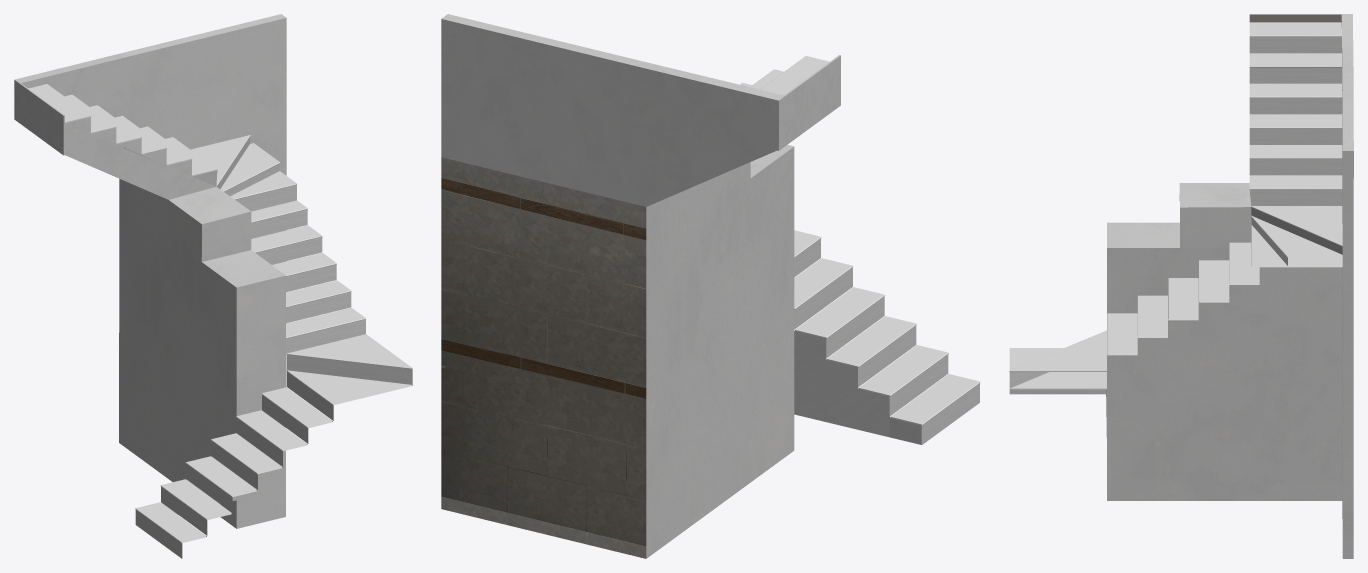
File: StairWall2.fbx
3 views of the same model, side by side, from view 1: azimuth 30°, elevation 25°; view 2: azimuth 150°, elevation 25°; view 3: azimuth 270°, elevation 25° (orthographic). The views are drawn at different scales.
Parts seen in each view (by area): view 1: Stair_Wall2; view 2: Stair_Wall2; view 3: Stair_Wall2.
Boxes of the visible parts, x1,y1,x2,y2 form: Stair_Wall2: (14, 14, 412, 558); Stair_Wall2: (441, 14, 980, 558); Stair_Wall2: (1009, 14, 1353, 558).
Size of the model in its own units: 266 by 370 by 283.
Materials: 3 (2 with a texture image).
